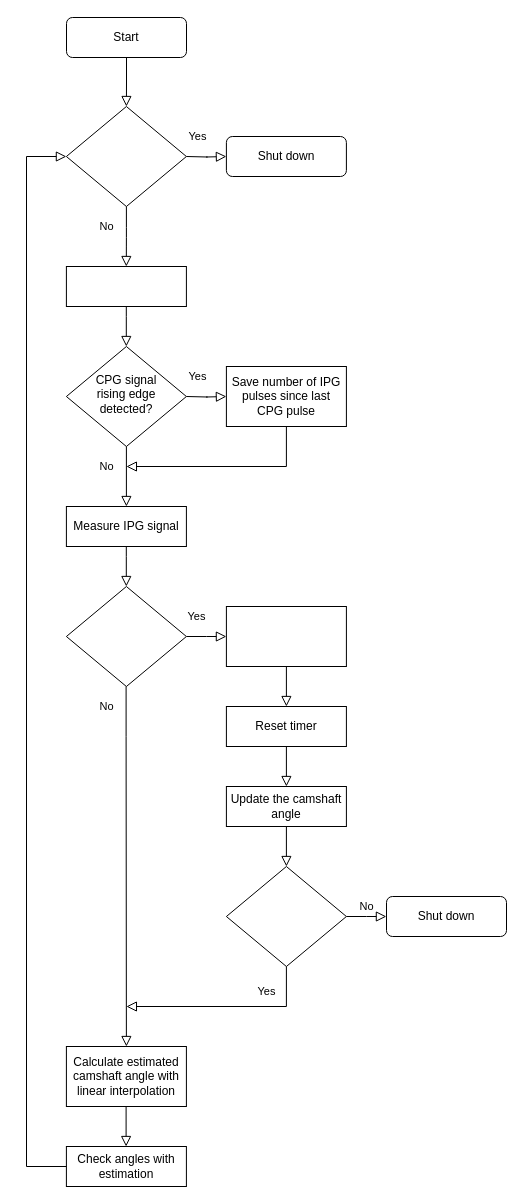
The diagram is 524 pixels wide and 1204 high, and some of its shapes have lost their labels. The shapes that lost their labels are listed below. From the top down, each one's centre as x and y in pixels, then its label:
At pixel 125 156: "Temp too high or instructed to shut down?".
At pixel 125 286: "Measure CPG signal".
At pixel 125 636: "IPG signal rising edge detected?".
At pixel 285 636: "Calculate the camshaft angular velocity".
At pixel 285 916: "Is camshaft angle consistent with CPG?".
